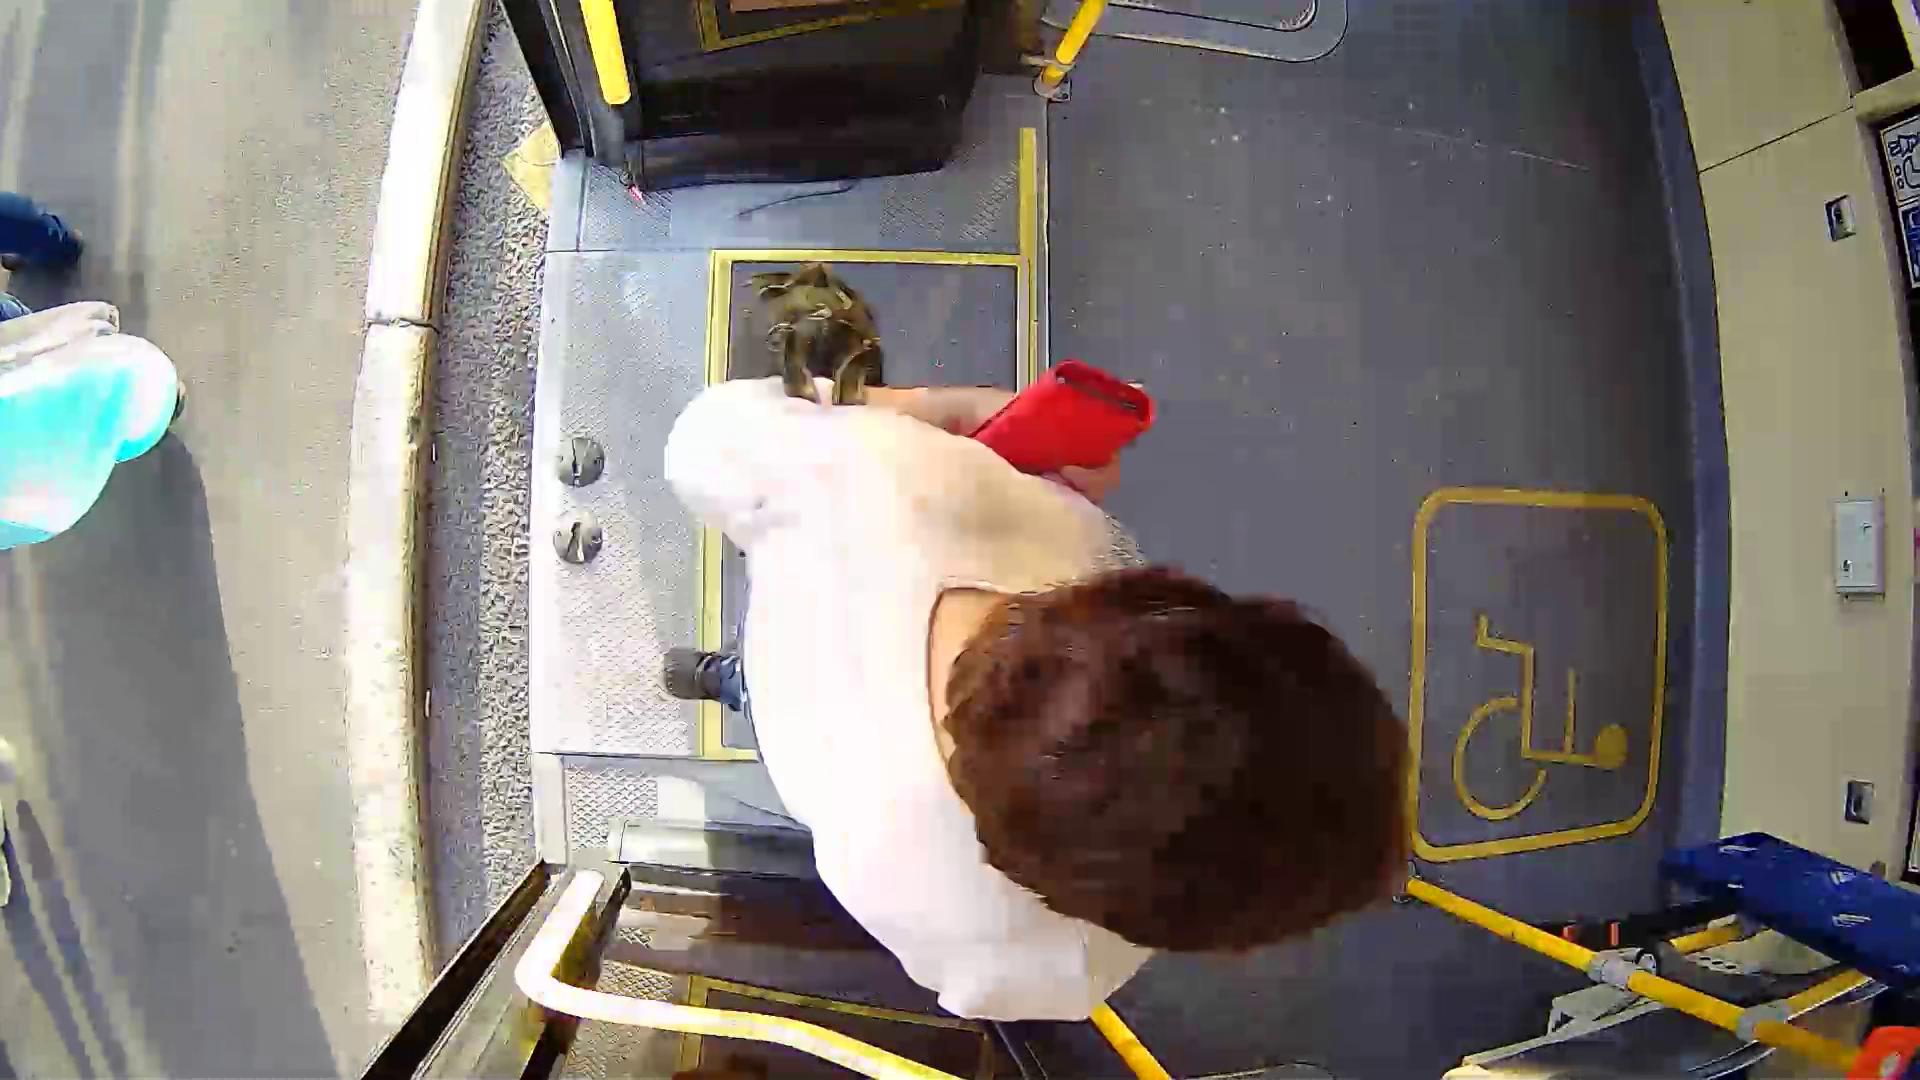person: (645, 297, 1489, 1009)
